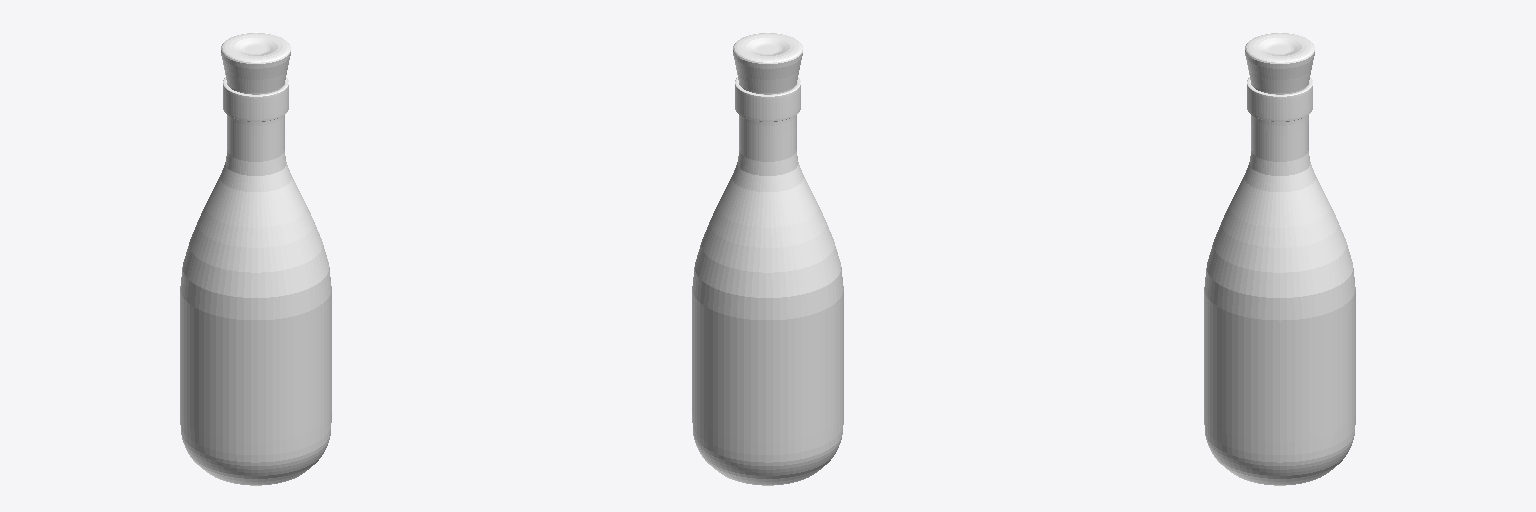
The model's file is Bottle.obj.
3 renders of one model, left to right at view 1: azimuth 30°, elevation 25°; view 2: azimuth 150°, elevation 25°; view 3: azimuth 270°, elevation 25°, orthographic.
Parts seen in each view (by area): view 1: Botle.001; view 2: Botle.001; view 3: Botle.001.
Boxes of the visible parts, x1=… form: Botle.001: x1=180, y1=33, x2=331, y2=485; Botle.001: x1=692, y1=33, x2=843, y2=485; Botle.001: x1=1204, y1=33, x2=1355, y2=485.
Bounding box in the file's own units: 1.94 × 5.92 × 1.94.